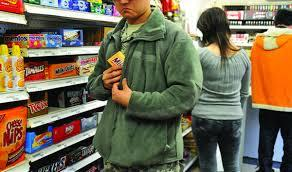shoplifting: (103, 28, 145, 106)
